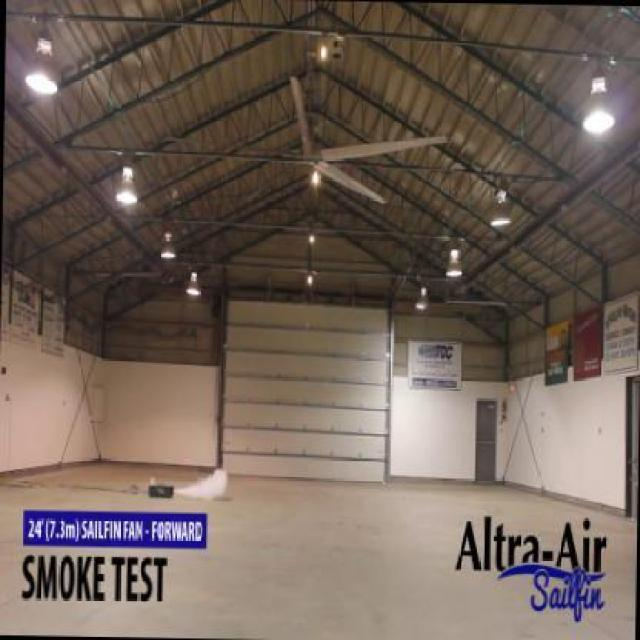fire: (178, 465, 232, 503)
